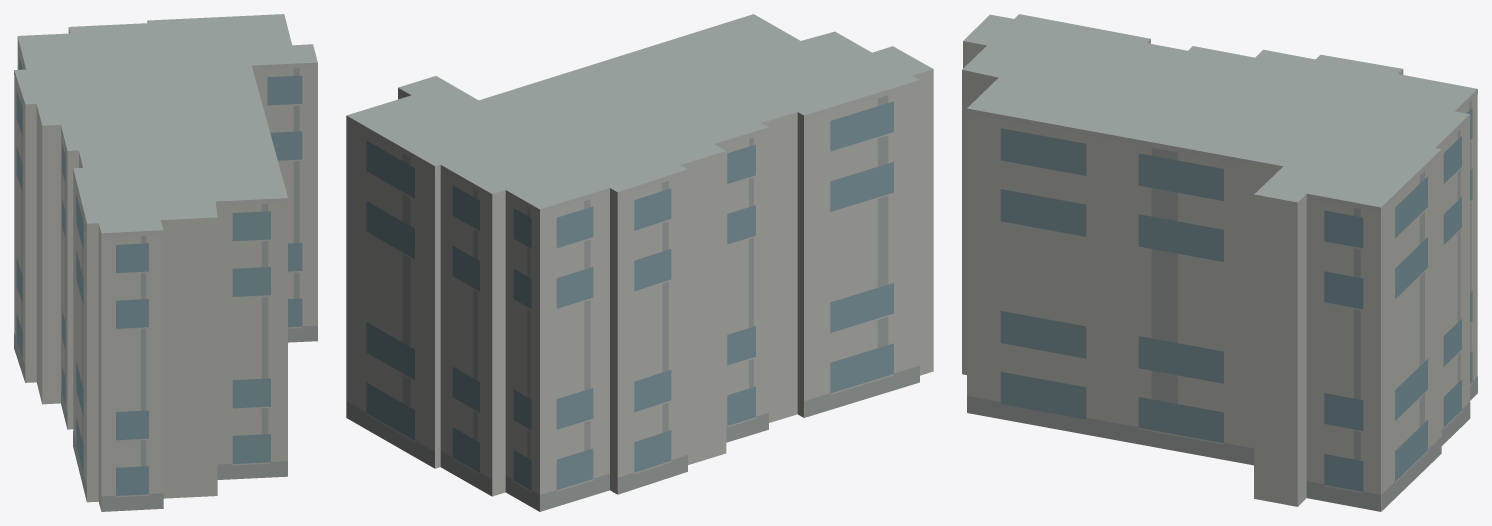
File: survey-upis-32990661.glb
3 views of the same model, side by side, from view 1: azimuth 30°, elevation 25°; view 2: azimuth 150°, elevation 25°; view 3: azimuth 270°, elevation 25° (orthographic). The views are drawn at different scales.
Parts seen in each view (by area): view 1: survey-upis-32990661.tmp; view 2: survey-upis-32990661.tmp; view 3: survey-upis-32990661.tmp.
Part boxes in pixels (left/top/right/bottom): survey-upis-32990661.tmp: left=14, top=14, right=317, bottom=511; survey-upis-32990661.tmp: left=346, top=14, right=933, bottom=511; survey-upis-32990661.tmp: left=962, top=14, right=1477, bottom=511.
Bounding box in the file's own units: 18.95 × 13.9 × 21.35.
